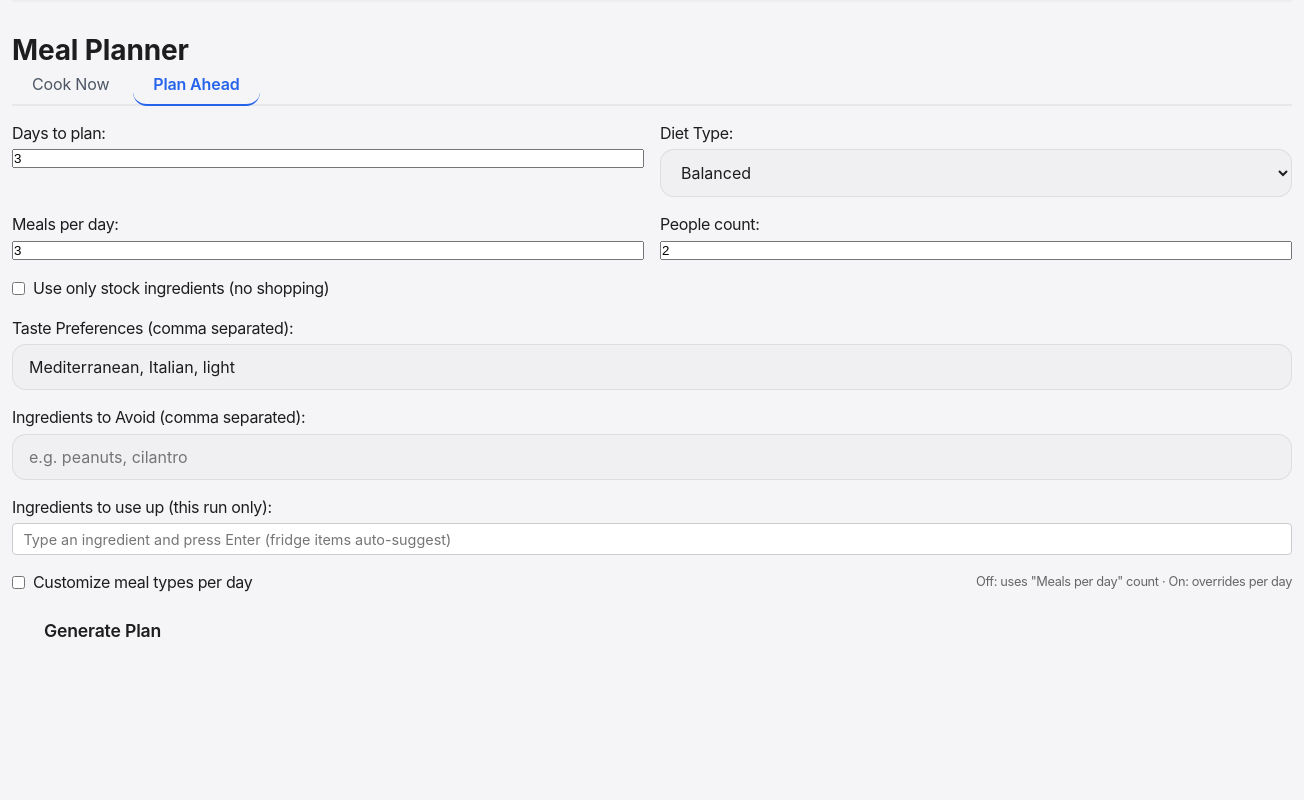
Test: MealPlanner › disables generate button while pending
Click the button "Generate Plan" at point(103, 630), box [12, 611, 193, 650]
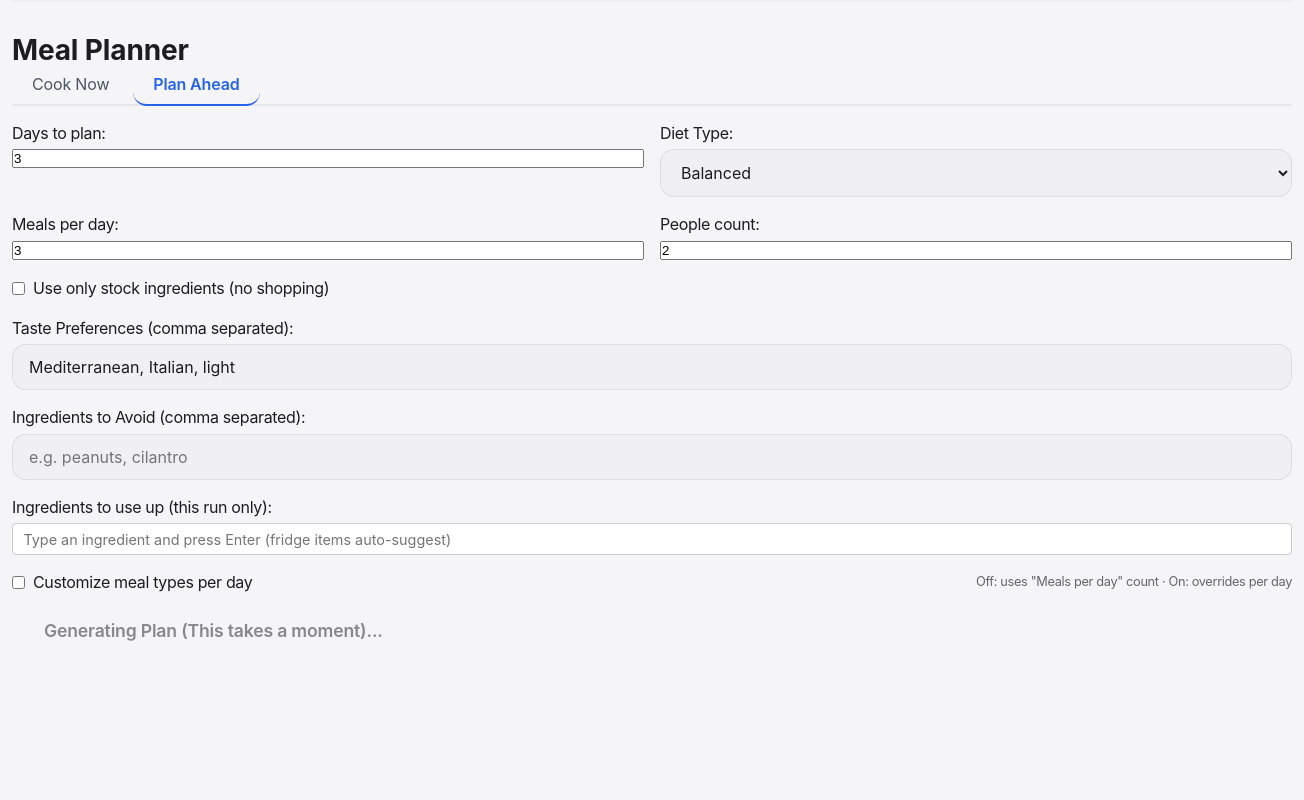
Expected: the button named "generate plan" is disabled, [12, 611, 415, 650]
Expected: the button named "generate plan" shows "Generating", [12, 611, 415, 650]
